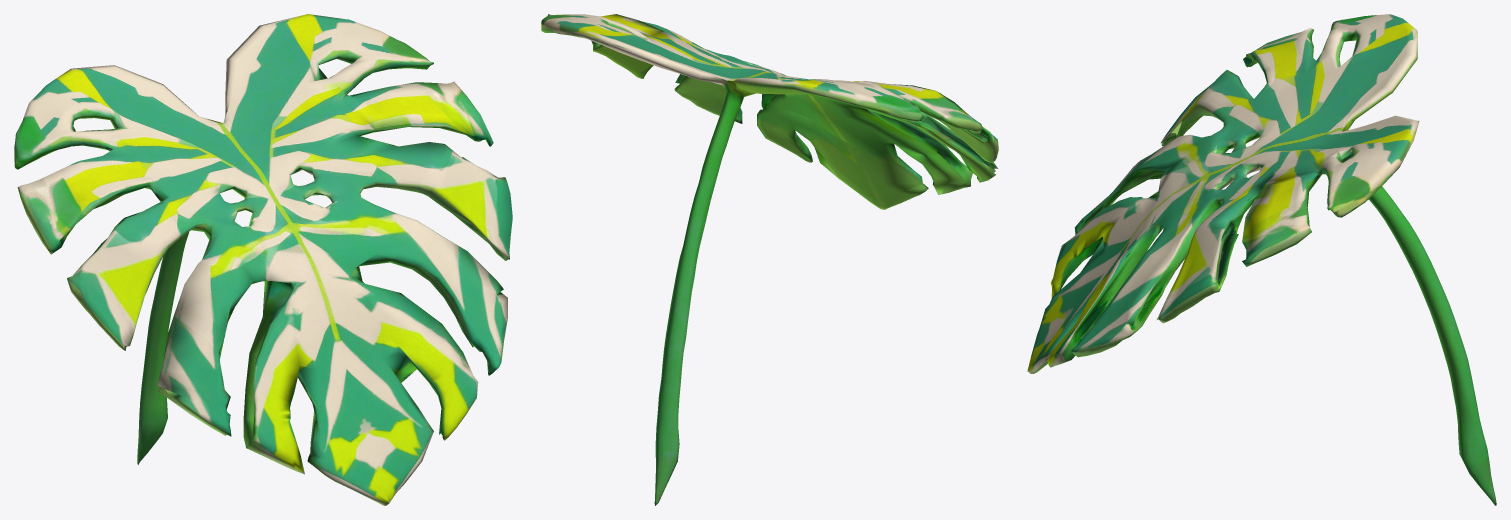
File: mon_star_greenyellow_v1.glb
The picture shows the model from 3 angles, left to right: view 1: azimuth 30°, elevation 25°; view 2: azimuth 150°, elevation 25°; view 3: azimuth 270°, elevation 25°; orthographic projection. The views are drawn at different scales.
Parts seen in each view (by area): view 1: world; view 2: world; view 3: world.
Boxes of the visible parts, x1=… form: world: x1=14, y1=14, x2=512, y2=505; world: x1=541, y1=14, x2=998, y2=505; world: x1=1027, y1=14, x2=1496, y2=505.
Bounding box in the file's own units: 2 × 1.95 × 1.94.
1 material, 1 textured.
